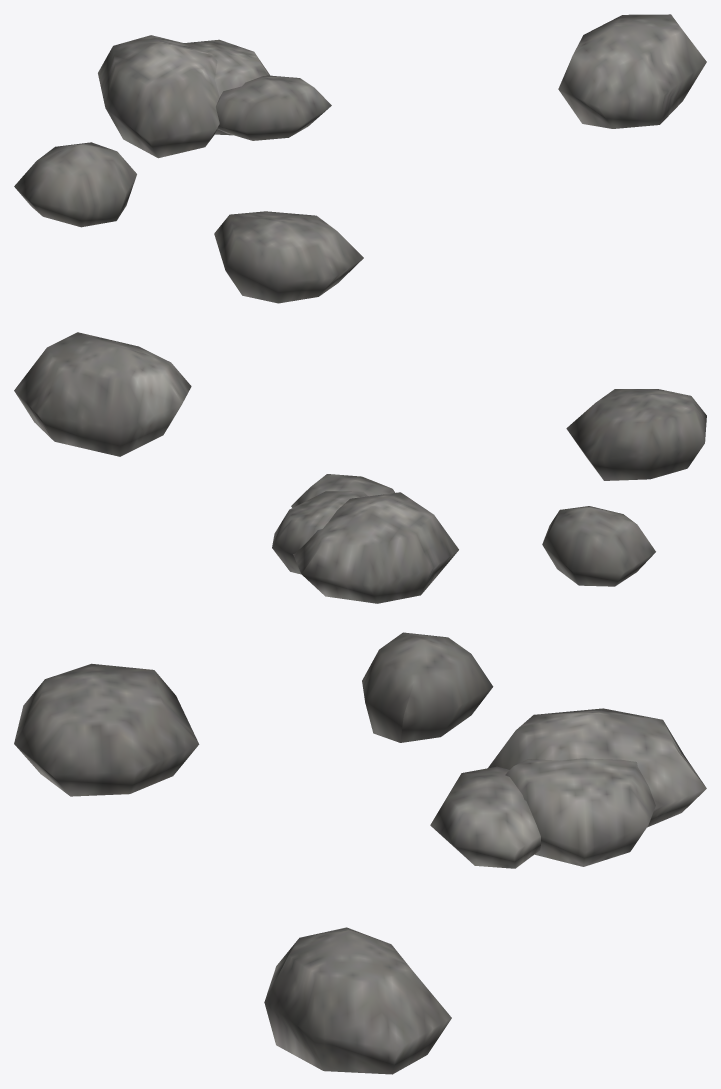
The model's file is pebbles_02.glb.
The picture shows the model from 3 angles, top to bottom: view 1: azimuth 30°, elevation 25°; view 2: azimuth 150°, elevation 25°; view 3: azimuth 270°, elevation 25°; orthographic projection. The views are drawn at different scales.
Parts seen in each view (by area): view 1: pebbles_02; view 2: pebbles_02; view 3: pebbles_02.
Boxes of the visible parts, left/top/right/bottom form: pebbles_02: left=14, top=14, right=706, bottom=303; pebbles_02: left=14, top=332, right=706, bottom=603; pebbles_02: left=14, top=632, right=706, bottom=1074.
Bounding box in the file's own units: 0.5624 × 0.0812 × 0.409.
1 material, 1 textured.
